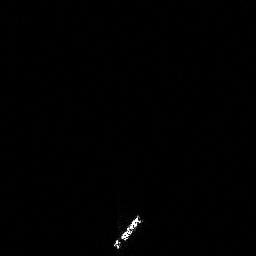ship: (114, 214, 142, 248)
